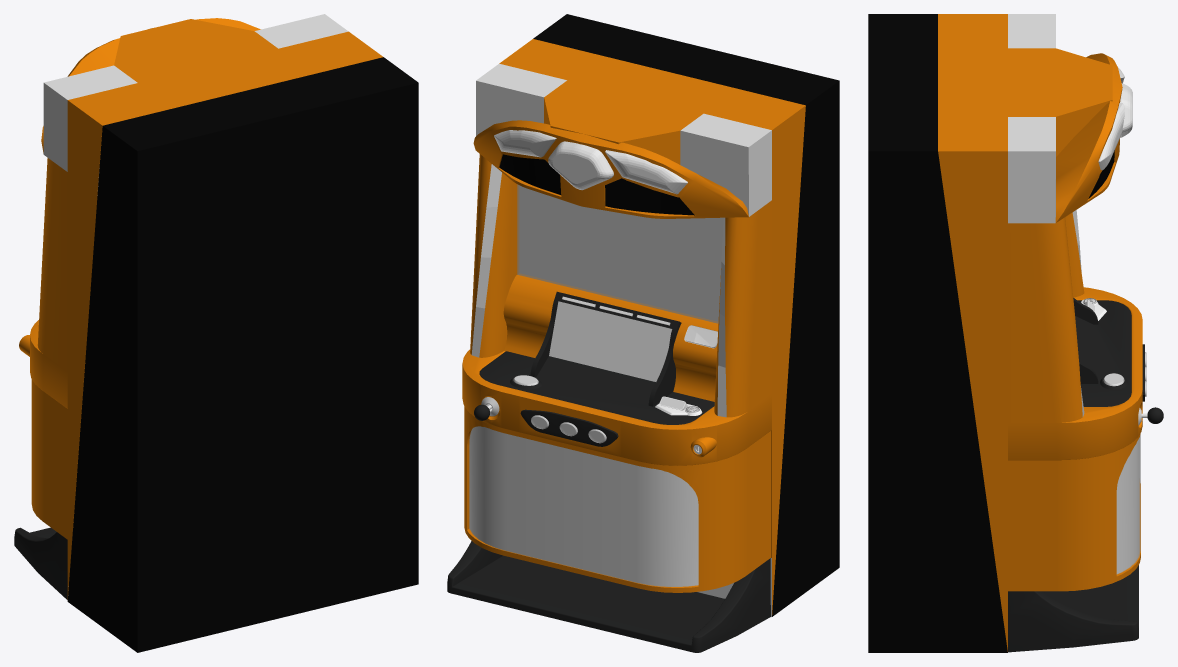
File: chinpoII.fbx
3 views of the same model, side by side, from view 1: azimuth 30°, elevation 25°; view 2: azimuth 150°, elevation 25°; view 3: azimuth 270°, elevation 25° (orthographic). The views are drawn at different scales.
Parts seen in each view (by area): view 1: MainBodyBack, MainBody, LED2, LED1; view 2: MainBody, MainBodyBack, BottomPanelGlass, BottomPanel, ScreenGlass, Screen, ControllPanel, ReelArea, LED2, LED1, Speeker, LED5 (+3 smaller); view 3: MainBody, MainBodyBack, ControllPanel, LED1, BottomPanelGlass, BottomPanel, LED2, LED5, LED4.
Part boxes in pixels (<box>): MainBodyBack: <box>67,57,418,652</box>; MainBody: <box>14,18,383,600</box>; LED2: <box>43,65,137,171</box>; LED1: <box>254,14,348,48</box>; MainBody: <box>447,39,805,652</box>; MainBodyBack: <box>533,14,839,616</box>; BottomPanelGlass: <box>469,426,698,586</box>; BottomPanel: <box>470,426,698,586</box>; ScreenGlass: <box>517,184,723,323</box>; Screen: <box>519,186,723,320</box>; ControllPanel: <box>479,291,714,424</box>; ReelArea: <box>503,273,718,401</box>; LED2: <box>680,113,771,216</box>; LED1: <box>476,63,566,135</box>; Speeker: <box>499,154,694,215</box>; LED5: <box>494,130,687,194</box>; MainBody: <box>938,14,1142,652</box>; MainBodyBack: <box>868,14,1007,652</box>; ControllPanel: <box>1073,298,1131,406</box>; LED1: <box>1008,117,1055,223</box>; BottomPanelGlass: <box>1116,434,1140,574</box>; BottomPanel: <box>1117,440,1138,573</box>; LED2: <box>1008,14,1055,48</box>; LED5: <box>1098,66,1124,170</box>; LED4: <box>1120,83,1132,137</box>.
Bounding box in the file's own units: 47.54 × 81 × 43.25.
